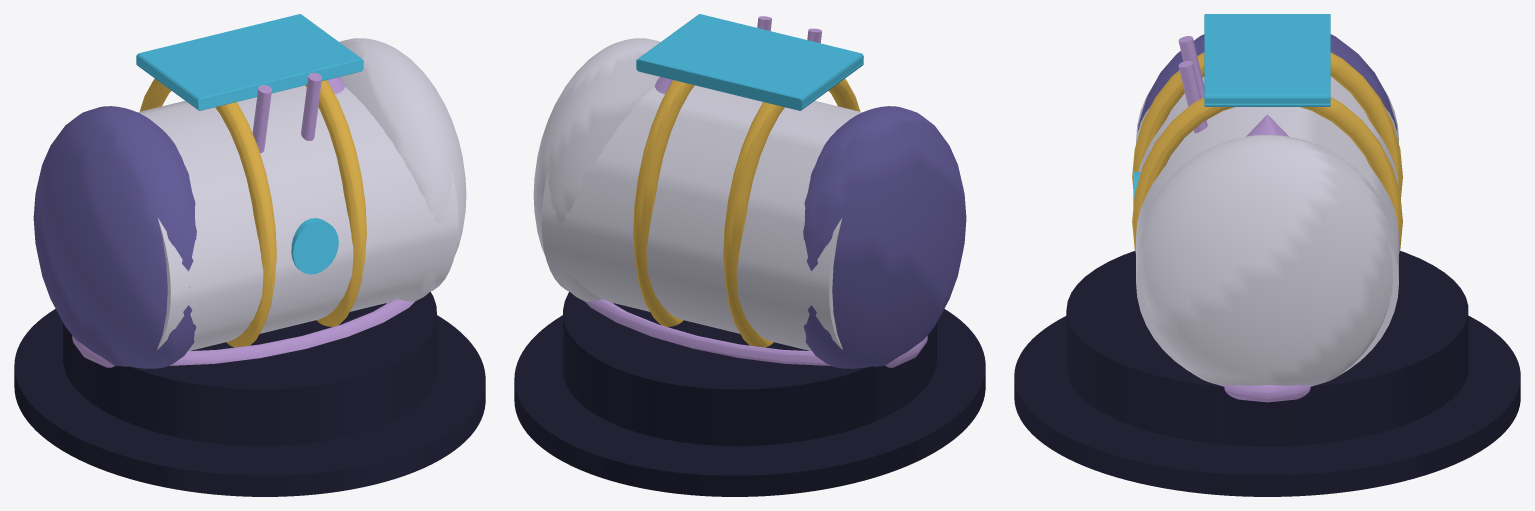
The model's file is 0402_月球图鉴_“鹰”登月舱.glb.
3 views of the same model, side by side, from view 1: azimuth 30°, elevation 25°; view 2: azimuth 150°, elevation 25°; view 3: azimuth 270°, elevation 25° (orthographic).
Parts seen in each view (by area): view 1: card_0402; view 2: card_0402; view 3: card_0402.
Boxes of the visible parts, <box> form: card_0402: <box>14,14,485,496</box>; card_0402: <box>514,14,985,496</box>; card_0402: <box>1014,14,1520,496</box>.
Size of the model in its own units: 1.23 by 1 by 1.32.
